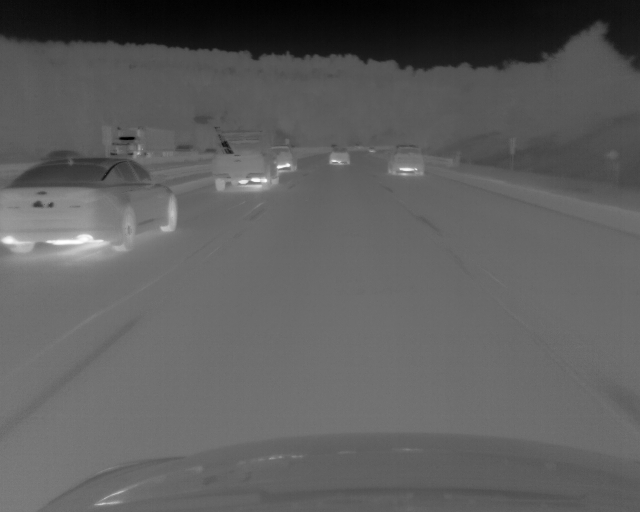car: (1, 157, 180, 255), (212, 119, 280, 192), (107, 127, 176, 156), (387, 144, 424, 176), (273, 144, 297, 171), (328, 147, 351, 164), (41, 150, 82, 158), (368, 147, 376, 152)
